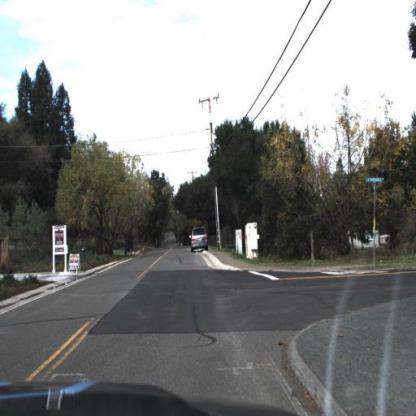car: (187, 219, 213, 259)
